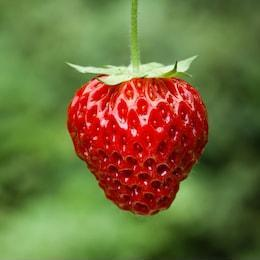Fresa: (60, 60, 222, 222)
